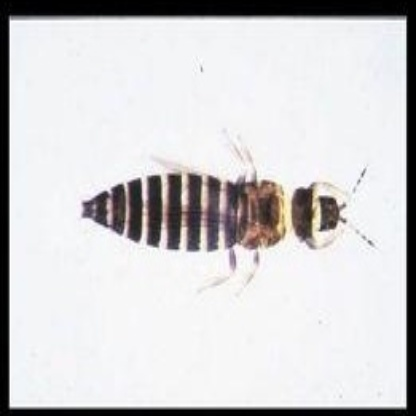Thrips: (79, 122, 378, 309)
